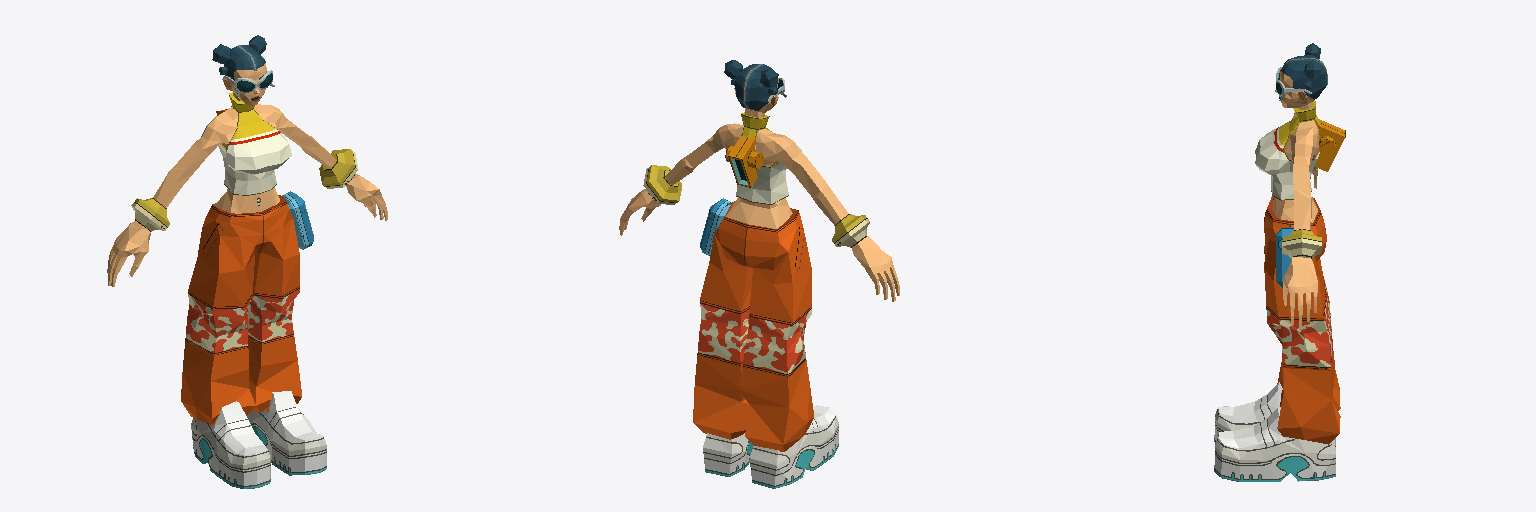
3 views of the same model, side by side, from view 1: azimuth 30°, elevation 25°; view 2: azimuth 150°, elevation 25°; view 3: azimuth 270°, elevation 25° (orthographic).
Visible parts, largest first — view 1: SubMesh_0_Mesh_0; view 2: SubMesh_0_Mesh_0; view 3: SubMesh_0_Mesh_0.
Part boxes in pixels (left/top/right/bottom): SubMesh_0_Mesh_0: left=107, top=35, right=387, bottom=488; SubMesh_0_Mesh_0: left=619, top=60, right=899, bottom=488; SubMesh_0_Mesh_0: left=1214, top=43, right=1345, bottom=481.
Bounding box in the file's own units: 1.19 × 1.69 × 0.4922.
1 materials, 1 textured.